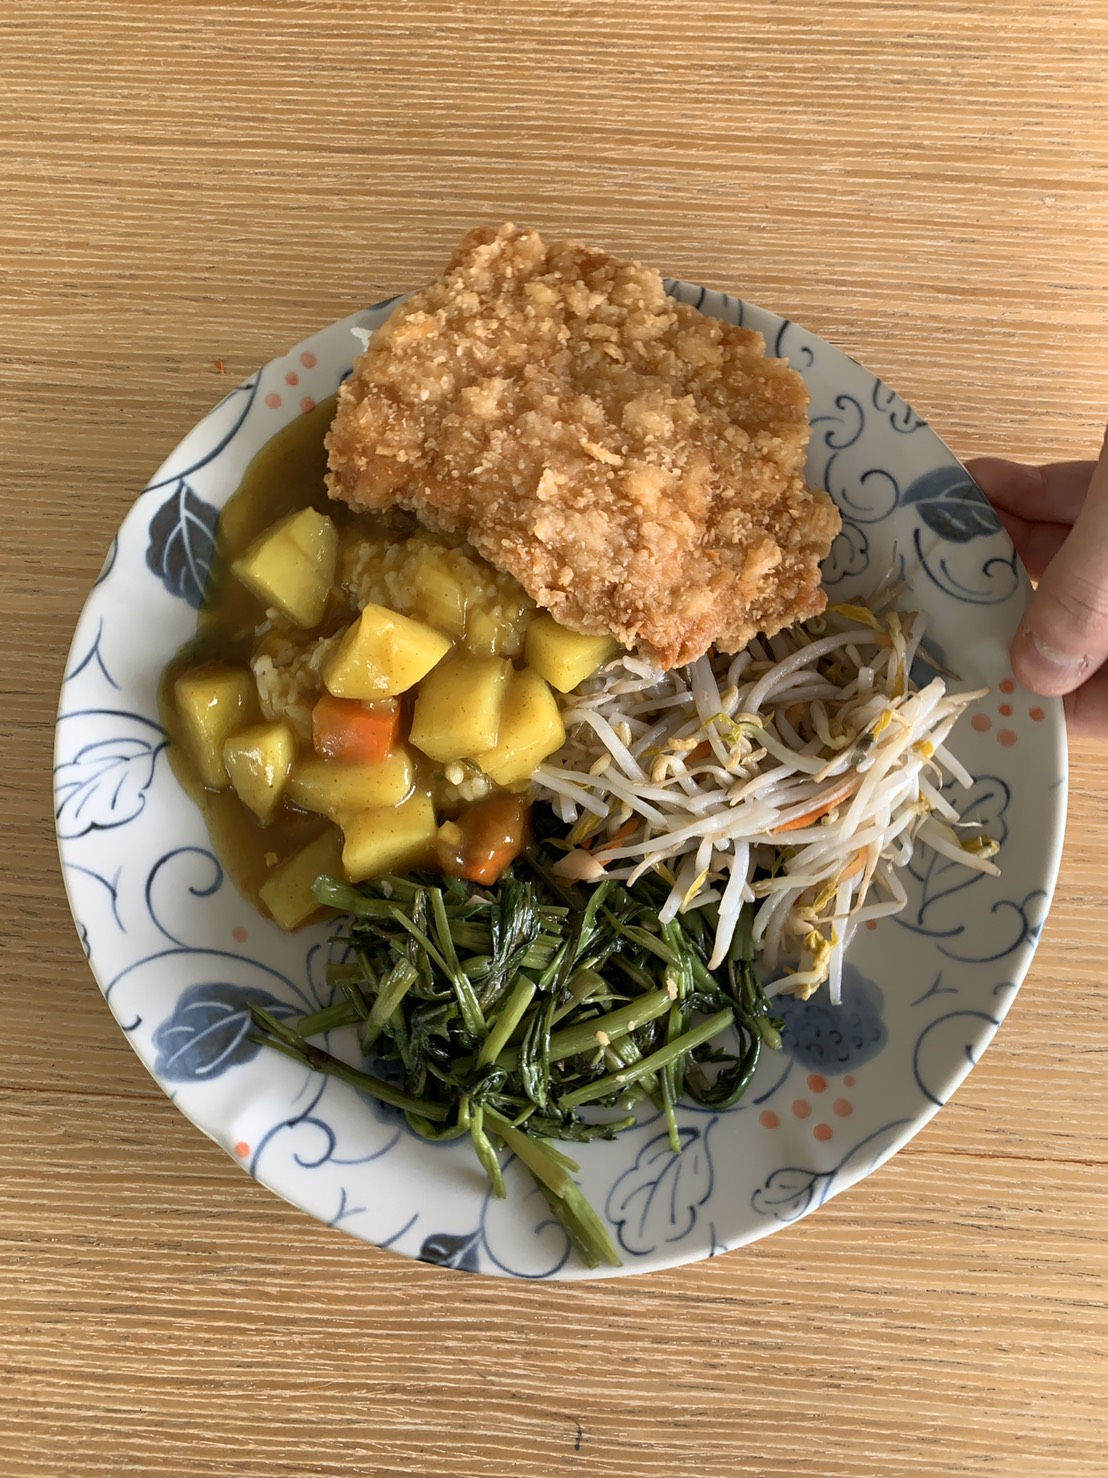curry: (232, 596, 525, 826)
fried_chicken: (429, 292, 765, 588)
mung_bean_sprouts: (613, 669, 919, 891)
water_spinach: (410, 895, 692, 1117)
